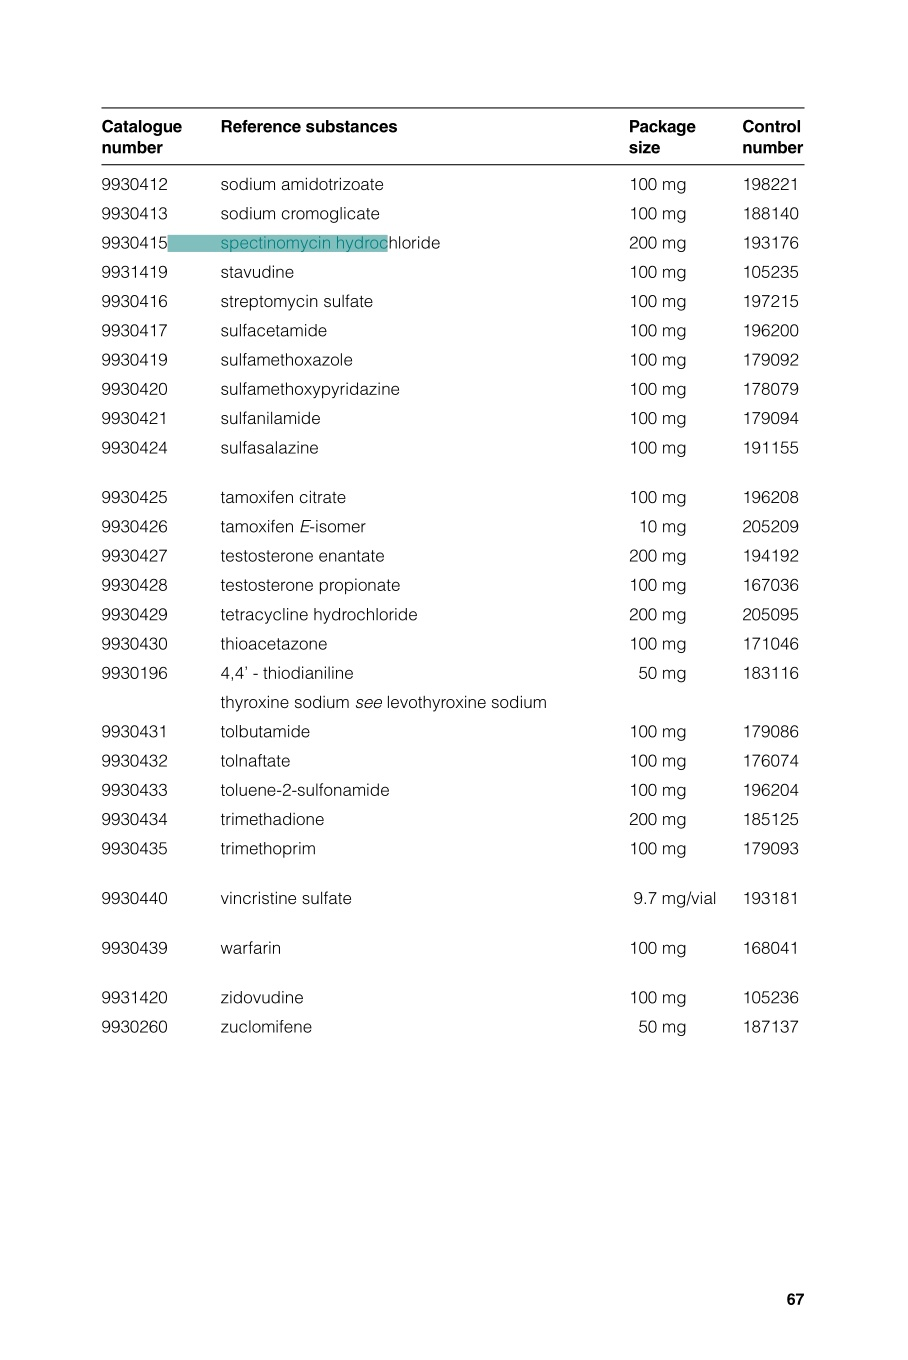partial_lined: (99, 106, 806, 1042)
